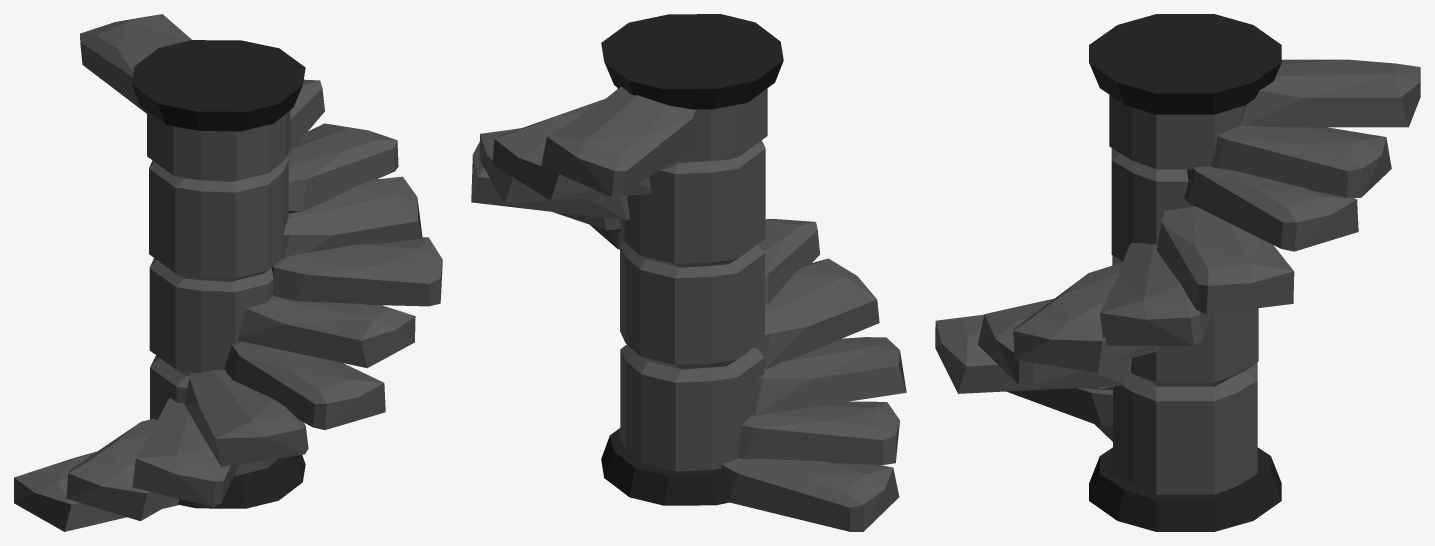
The model's file is Staircase_stone_thin_C.fbx.
The picture shows the model from 3 angles, left to right: view 1: azimuth 30°, elevation 25°; view 2: azimuth 150°, elevation 25°; view 3: azimuth 270°, elevation 25°; orthographic projection. The views are drawn at different scales.
Visible parts, largest first — view 1: Staircase_stone_thin_C; view 2: Staircase_stone_thin_C; view 3: Staircase_stone_thin_C.
Part boxes in pixels (<box>): Staircase_stone_thin_C: <box>14,14,442,531</box>; Staircase_stone_thin_C: <box>471,14,906,531</box>; Staircase_stone_thin_C: <box>935,14,1420,531</box>.
Bounding box in the file's own units: 294 × 300 × 300.
